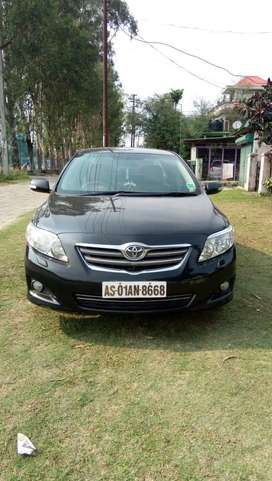AS01AN8668: (101, 280, 166, 298)
